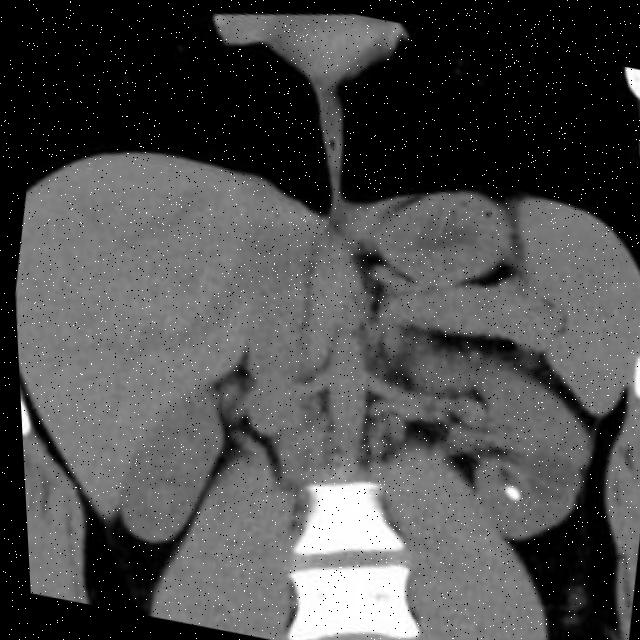Tas_Var: (494, 475, 520, 503)
